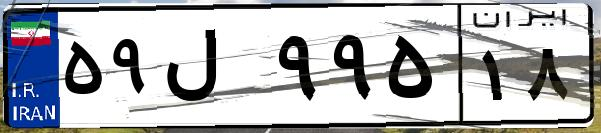1: (475, 38, 525, 113)
5: (385, 28, 445, 110), (57, 26, 110, 100)
8: (525, 38, 570, 115)
9: (270, 28, 330, 110), (330, 28, 385, 110), (110, 28, 158, 98)
ل: (158, 20, 270, 120)
